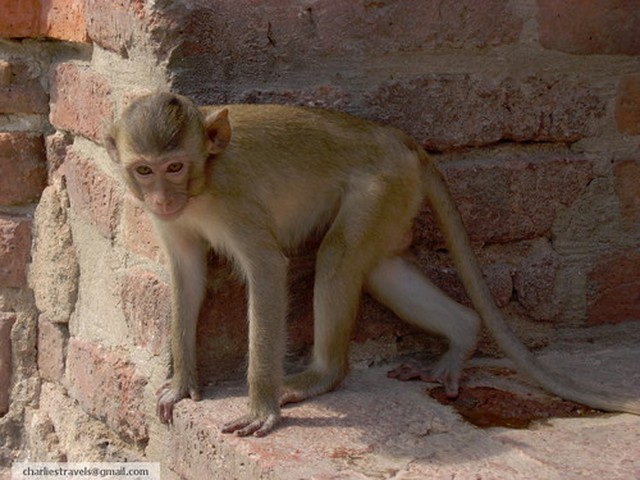Monkey: (99, 93, 566, 440)
